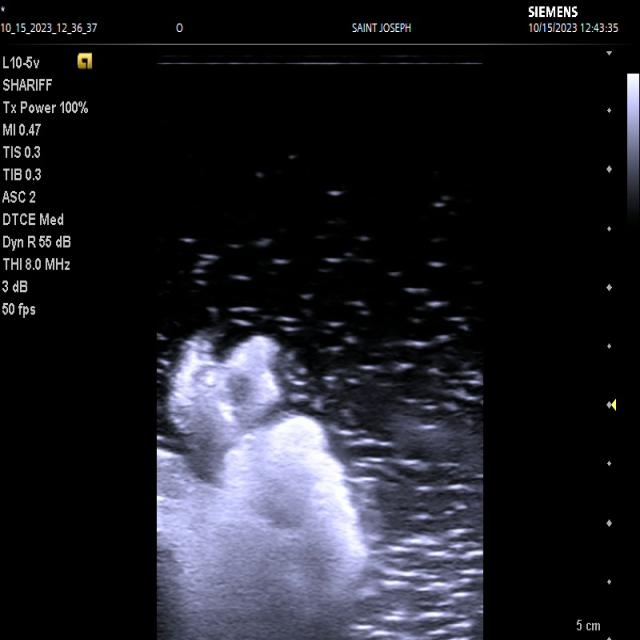tissue: (158, 337, 366, 640)
